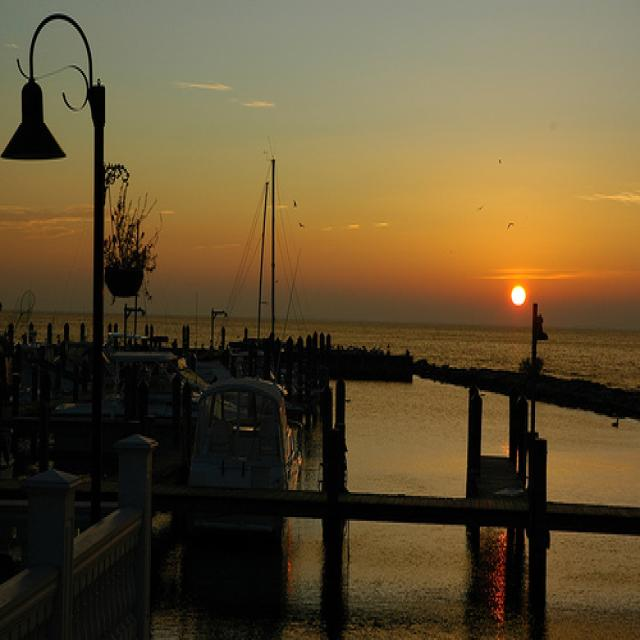Boat: (180, 361, 346, 548)
